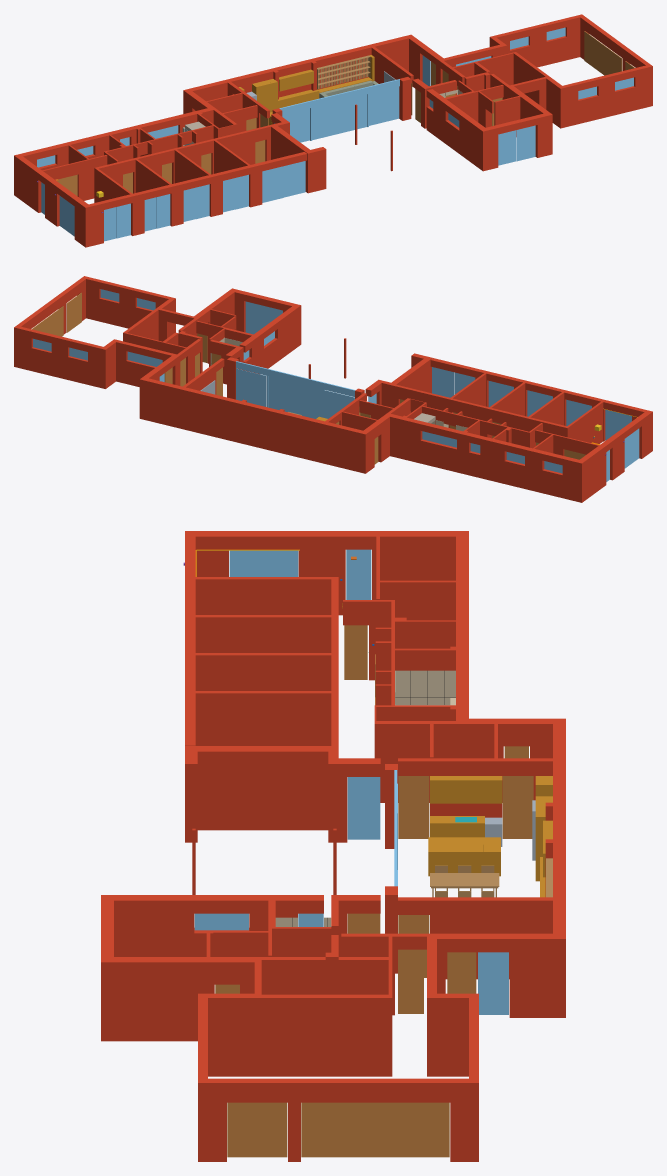
Rendered from ground_floor.glb.
3 views of the same model, one above another, from view 1: azimuth 30°, elevation 25°; view 2: azimuth 150°, elevation 25°; view 3: azimuth 270°, elevation 25° (orthographic). The views are drawn at different scales.
Visible parts, largest first — view 1: masonry__W-002__, masonry__W-005__, masonry__W-029__, masonry__W-013__, masonry__W-030__, masonry__W-054__, masonry__W-026__, masonry__W-027__, glazing__WIN-OP28__, glazing__WIN-OP21__ (×2), masonry__W-001__, masonry__W-067__ (+39 smaller); view 2: masonry__W-029__, masonry__W-026__, masonry__W-027__, masonry__W-005__, masonry__W-030__, masonry__W-013__, masonry__W-002__, masonry__W-054__, glazing__WIN-OP28__, masonry__W-025__, masonry__W-022__, masonry__W-067__ (+31 smaller); view 3: masonry__W-049__, masonry__W-066__, masonry__W-067__, masonry__W-063__, masonry__W-030__, masonry__W-054__, door__D-OP50__, masonry__W-044__, masonry__W-060__, masonry__W-056__, masonry__W-031__, masonry__W-034__ (+38 smaller).
Boxes of the visible parts, left/top/right/bottom form: masonry__W-002__: left=89, top=152, right=307, bottom=245; masonry__W-005__: left=558, top=65, right=648, bottom=128; masonry__W-029__: left=183, top=34, right=413, bottom=113; masonry__W-013__: left=94, top=125, right=270, bottom=202; masonry__W-030__: left=17, top=156, right=91, bottom=247; masonry__W-054__: left=426, top=89, right=488, bottom=171; masonry__W-026__: left=14, top=107, right=216, bottom=197; masonry__W-027__: left=489, top=15, right=580, bottom=67; glazing__WIN-OP28__: left=312, top=94, right=367, bottom=140; glazing__WIN-OP21__ (×2): left=262, top=161, right=305, bottom=202; masonry__W-001__: left=485, top=113, right=546, bottom=169; masonry__W-067__: left=578, top=14, right=652, bottom=106; masonry__W-029__: left=139, top=377, right=368, bottom=473; masonry__W-026__: left=385, top=413, right=585, bottom=502; masonry__W-027__: left=18, top=326, right=107, bottom=388; masonry__W-005__: left=86, top=277, right=175, bottom=333; masonry__W-030__: left=580, top=410, right=652, bottom=500; masonry__W-013__: left=394, top=384, right=569, bottom=437; masonry__W-002__: left=430, top=358, right=646, bottom=441; masonry__W-054__: left=239, top=304, right=301, bottom=374; glazing__WIN-OP28__: left=268, top=376, right=322, bottom=418; masonry__W-025__: left=112, top=339, right=173, bottom=386; masonry__W-022__: left=422, top=406, right=530, bottom=447; masonry__W-067__: left=14, top=276, right=88, bottom=367; masonry__W-049__: left=185, top=746, right=338, bottom=830; masonry__W-066__: left=261, top=994, right=392, bottom=1076; masonry__W-067__: left=198, top=1078, right=478, bottom=1161; masonry__W-063__: left=101, top=957, right=261, bottom=1041; masonry__W-030__: left=185, top=531, right=455, bottom=615; masonry__W-054__: left=101, top=895, right=323, bottom=956; door__D-OP50__: left=301, top=1102, right=449, bottom=1157; masonry__W-044__: left=195, top=691, right=331, bottom=745; masonry__W-060__: left=427, top=933, right=552, bottom=1017; masonry__W-056__: left=398, top=897, right=552, bottom=979; masonry__W-031__: left=195, top=577, right=331, bottom=614; masonry__W-034__: left=195, top=615, right=331, bottom=652.
Bounding box in the file's own units: 45.1 × 3.05 × 16.05.
